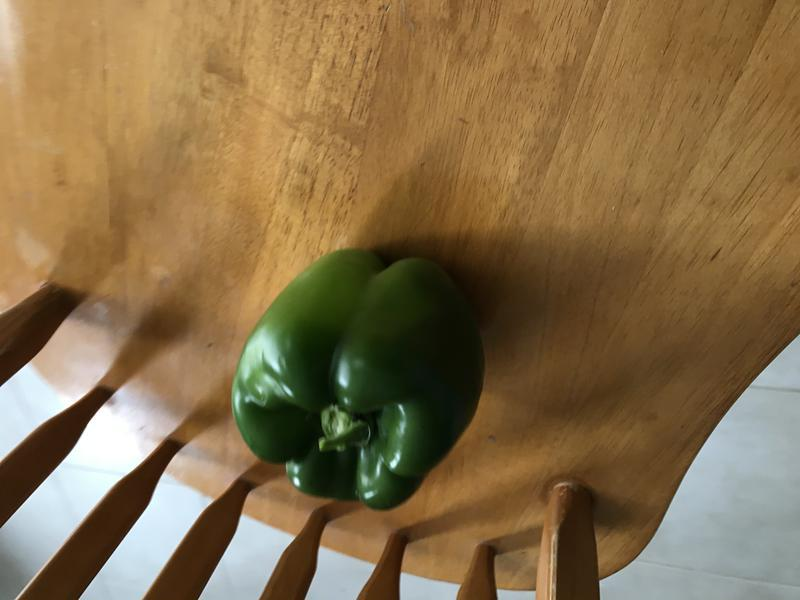green_pepper: (220, 231, 494, 531)
